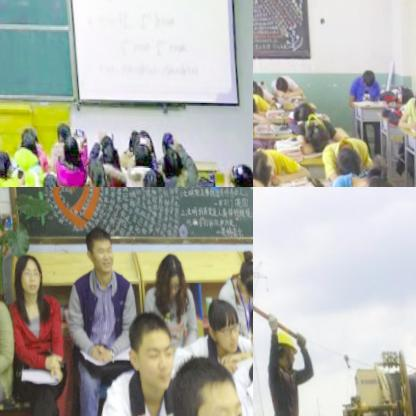head: (163, 355, 247, 416), (118, 311, 173, 391), (201, 297, 238, 357), (151, 250, 183, 299), (83, 227, 114, 275), (11, 253, 40, 294), (232, 249, 253, 297), (220, 157, 249, 187), (332, 144, 360, 175), (157, 142, 180, 177), (242, 301, 253, 374), (81, 152, 102, 187), (253, 144, 270, 186), (302, 117, 325, 147), (355, 170, 392, 187), (134, 165, 162, 187), (56, 130, 74, 160), (129, 141, 147, 169), (16, 126, 34, 153), (94, 134, 112, 161), (290, 99, 309, 123), (185, 171, 213, 187), (53, 118, 68, 143), (36, 170, 56, 187), (271, 72, 287, 92), (357, 67, 373, 86), (407, 83, 416, 111), (0, 148, 6, 176), (253, 80, 261, 98)
helmet: (267, 325, 302, 371)
